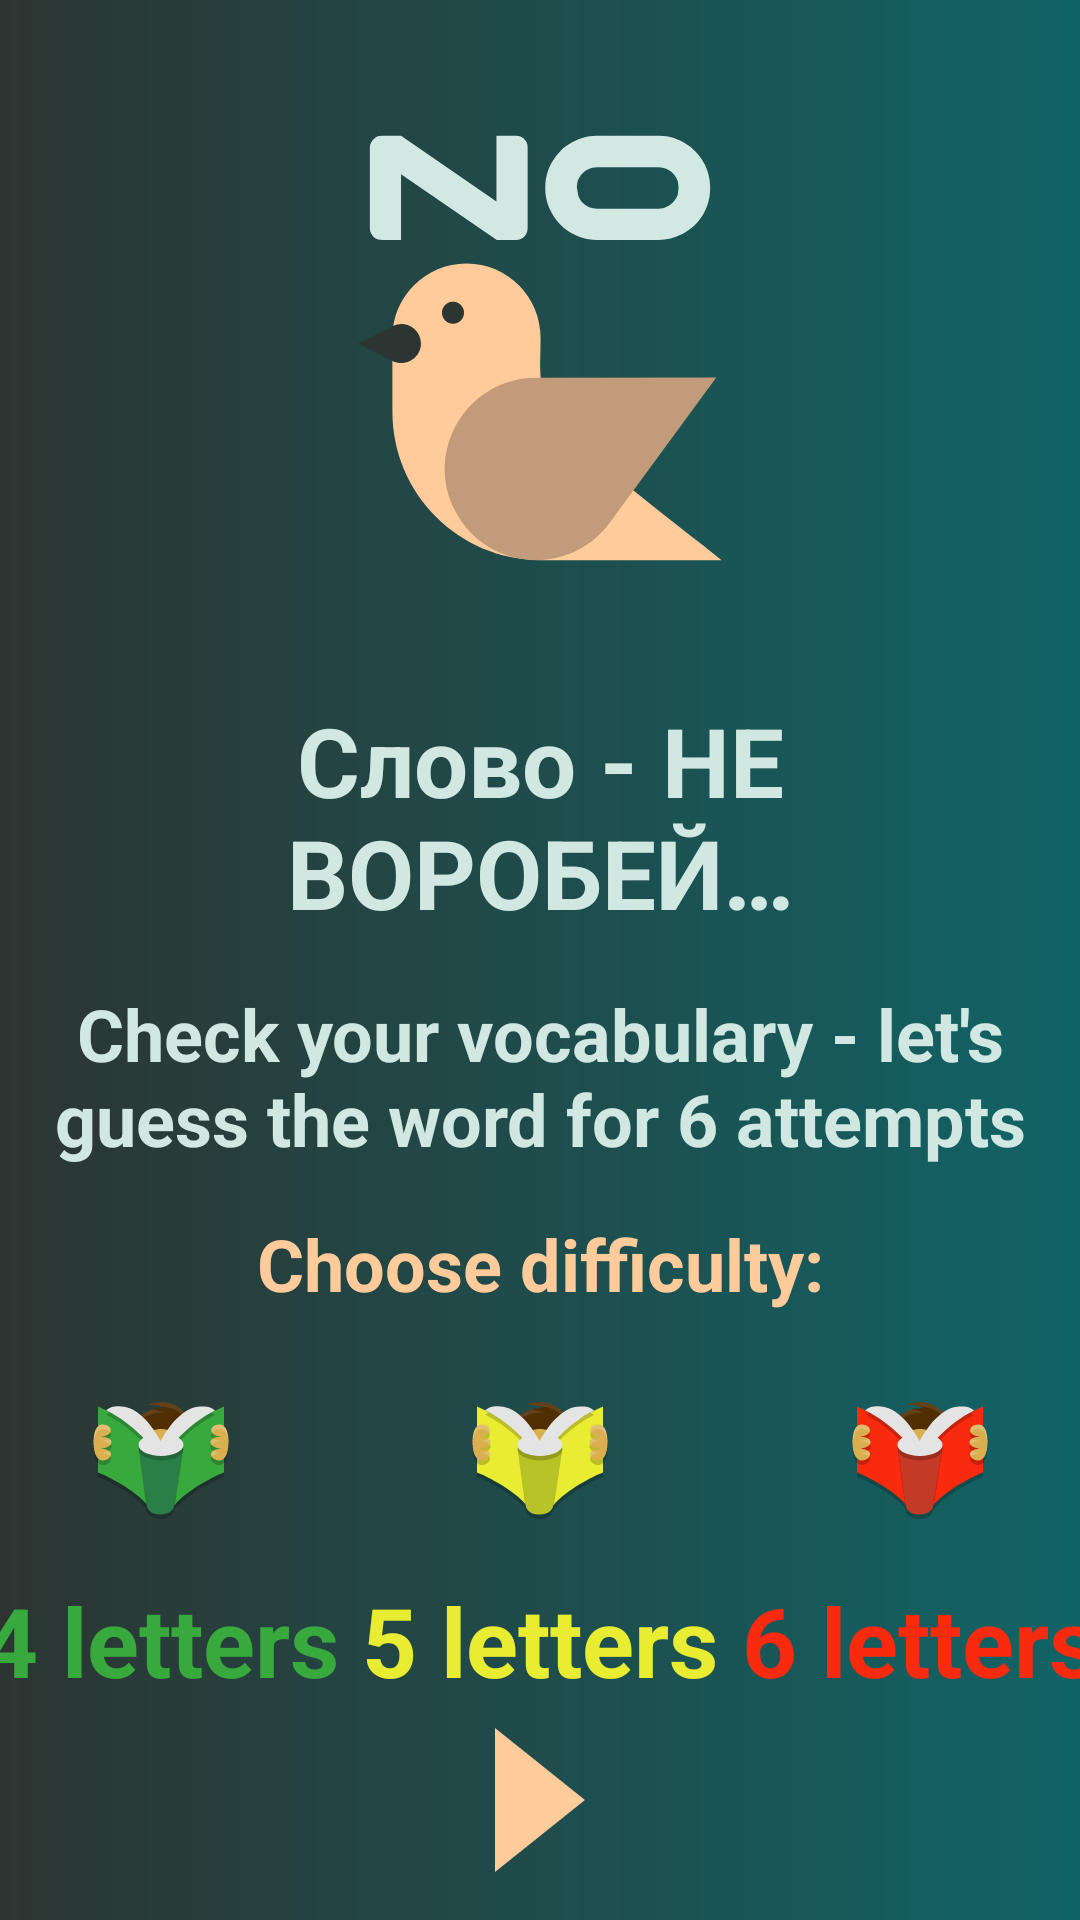

Where to tap for icons on this 1080w x 1920h app screen, as (x,y):
easy level: (161,1458)
hard level: (920,1458)
medium level: (540,1458)
start: (540,1800)
